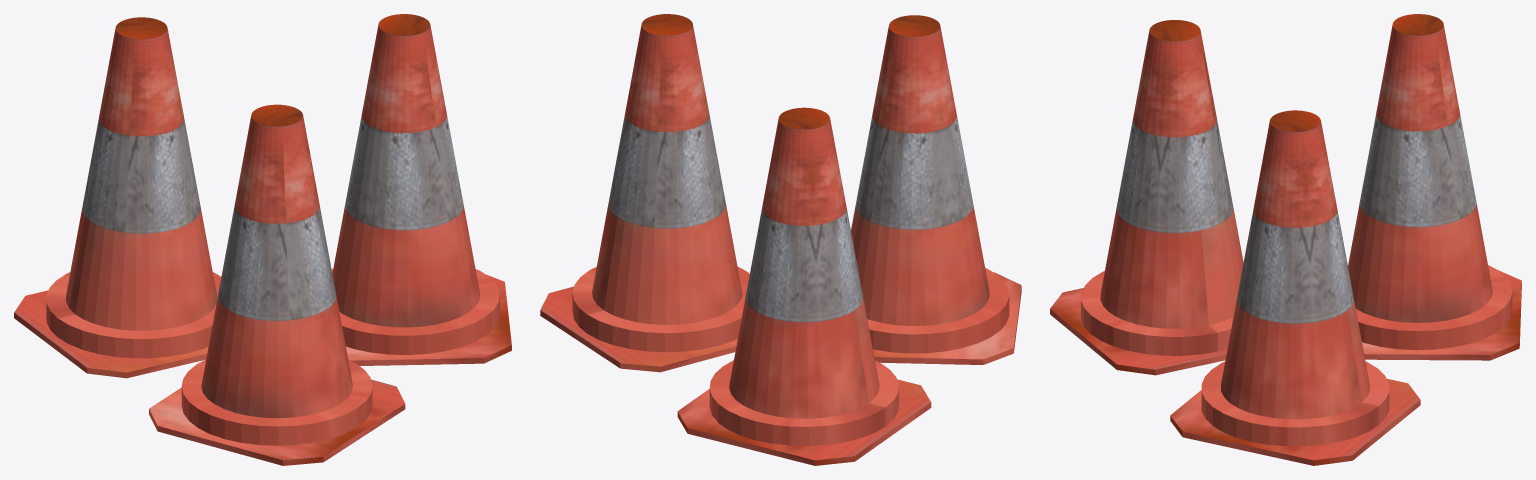
The picture shows the model from 3 angles, left to right: view 1: azimuth 30°, elevation 25°; view 2: azimuth 150°, elevation 25°; view 3: azimuth 270°, elevation 25°; orthographic projection.
Visible parts, largest first — view 1: Cylinder.002, Cylinder, Cylinder.001; view 2: Cylinder, Cylinder.001, Cylinder.002; view 3: Cylinder.001, Cylinder.002, Cylinder.
Part boxes in pixels (bbox=[...]): Cylinder.002: bbox=[149, 104, 405, 465]; Cylinder: bbox=[14, 17, 221, 378]; Cylinder.001: bbox=[331, 14, 511, 365]; Cylinder: bbox=[677, 107, 931, 465]; Cylinder.001: bbox=[540, 14, 749, 372]; Cylinder.002: bbox=[851, 15, 1021, 364]; Cylinder.001: bbox=[1170, 110, 1420, 465]; Cylinder.002: bbox=[1050, 20, 1243, 375]; Cylinder: bbox=[1348, 14, 1521, 360].
Size of the model in its own units: 3.16 by 2.19 by 3.21.
1 material, 1 textured.
